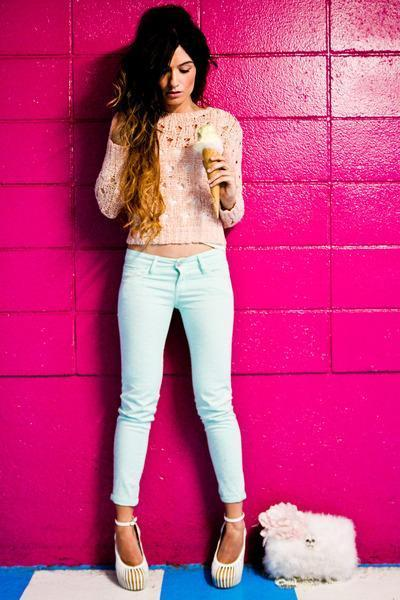jacket: (95, 108, 248, 258)
pants: (111, 249, 245, 505)
shoe: (115, 501, 246, 587)
